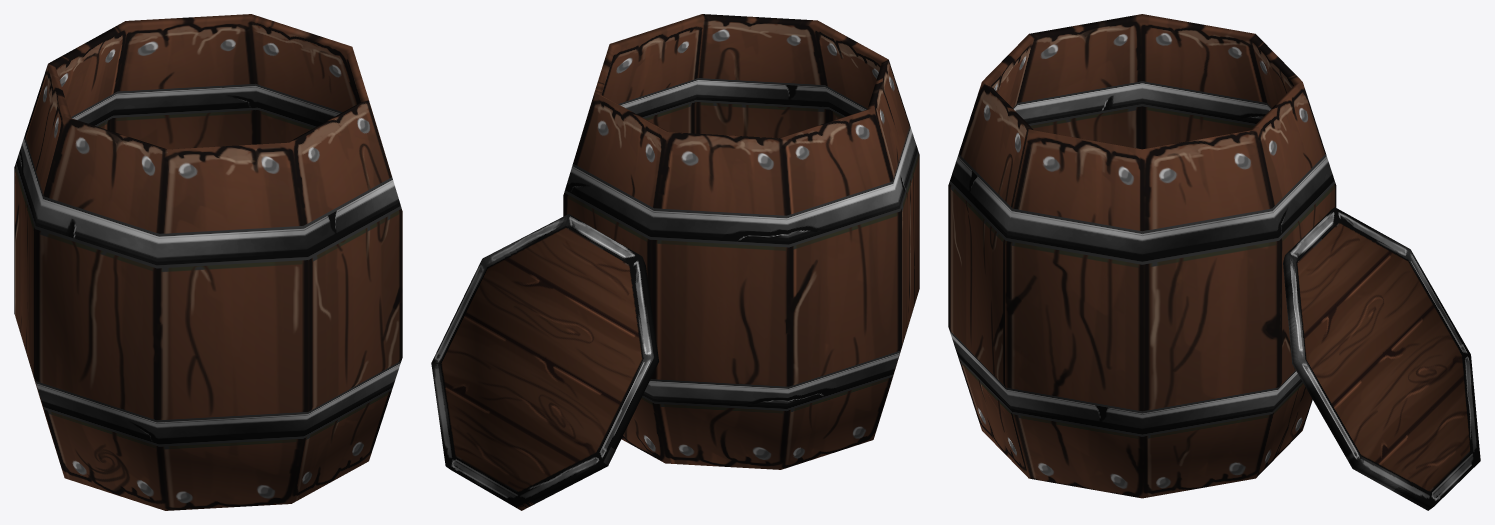
Rendered from Barrel_3.fbx.
3 renders of one model, left to right at view 1: azimuth 30°, elevation 25°; view 2: azimuth 150°, elevation 25°; view 3: azimuth 270°, elevation 25°, orthographic. The views are drawn at different scales.
Parts seen in each view (by area): view 1: Barrel_3; view 2: Barrel_3; view 3: Barrel_3.
Part boxes in pixels (left/top/right/bottom): Barrel_3: left=14, top=14, right=402, bottom=510; Barrel_3: left=431, top=14, right=919, bottom=510; Barrel_3: left=948, top=14, right=1480, bottom=510.
Size of the model in its own units: 1.6 by 1.39 by 1.91.
